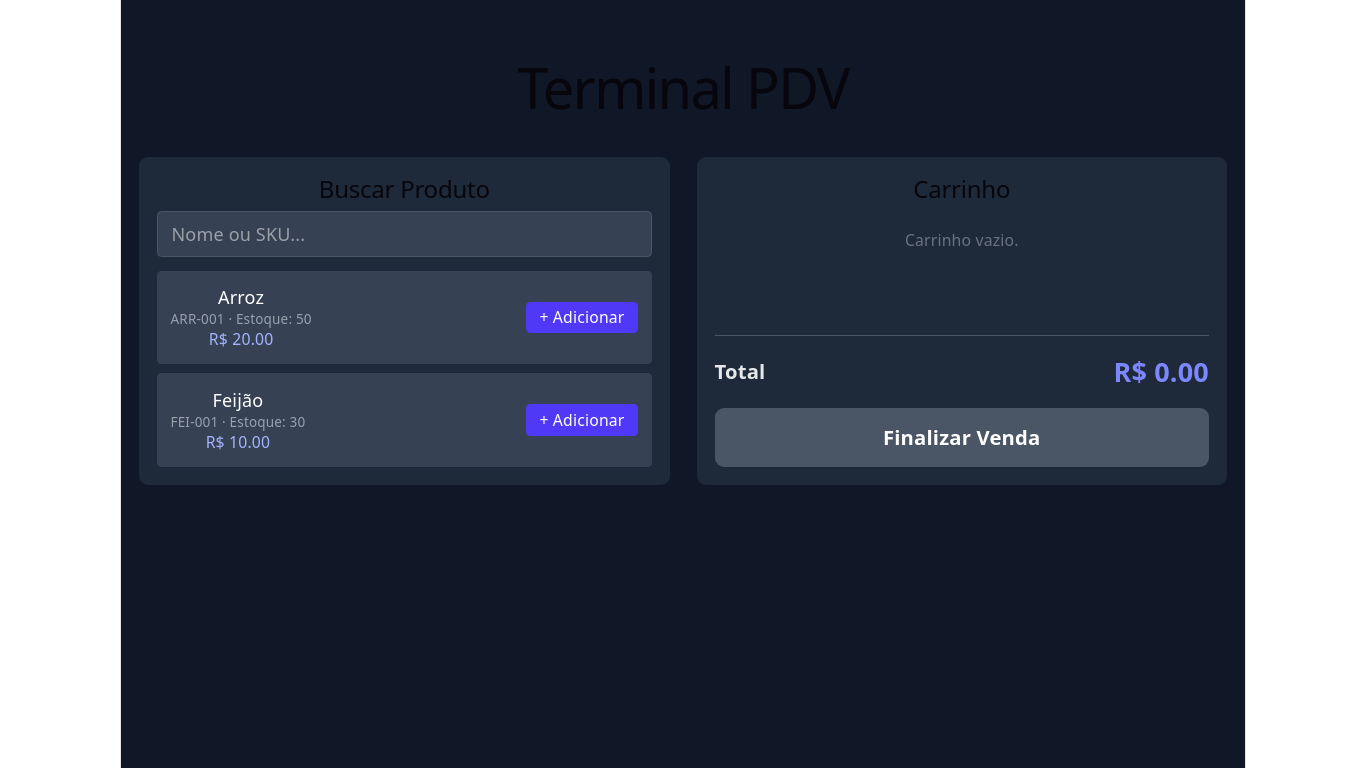
PdvPage › adds product to cart when add button clicked
expect the text "Arroz" is shown: met, box [218,285,264,309]
Step 1. Click the button with aria-label "Adicionar Arroz ao carrinho" → (582, 317), box [526,302,638,333]
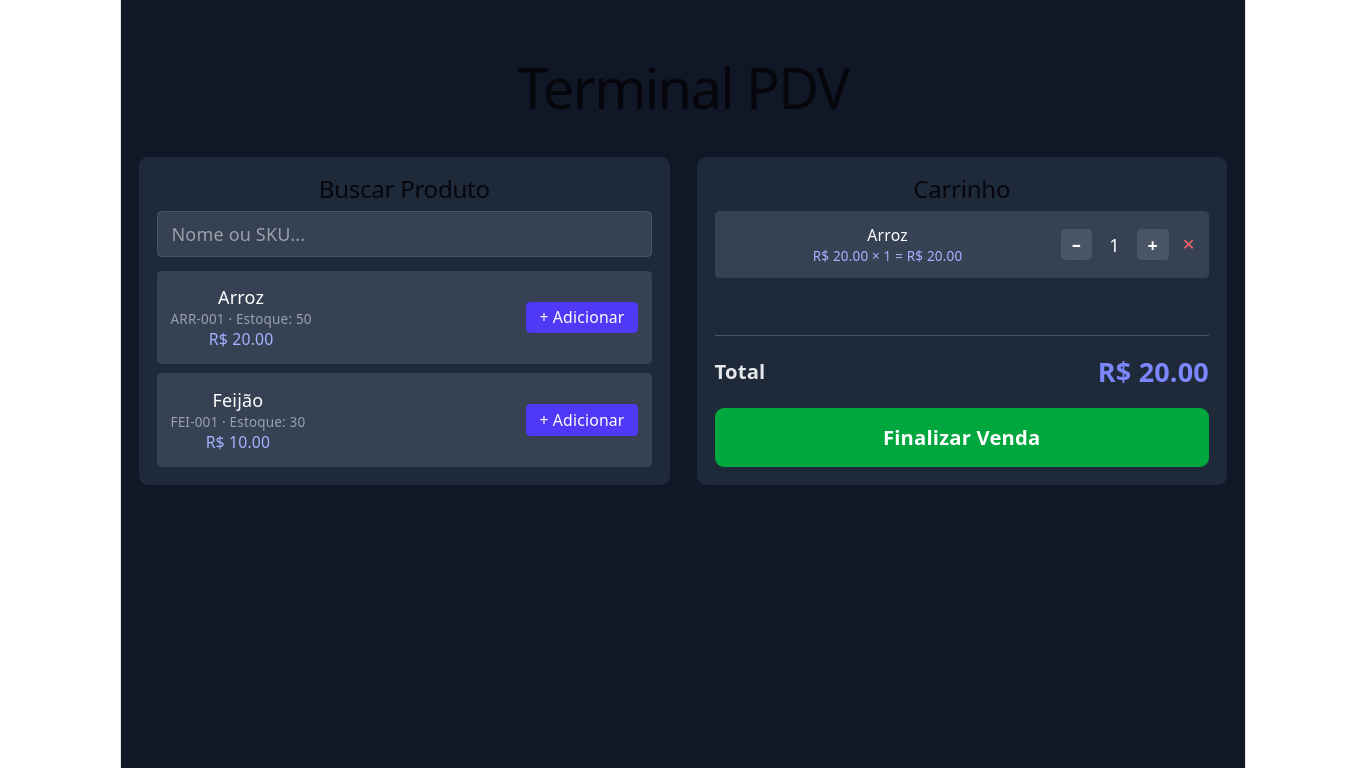
expect the text "Carrinho vazio." is gone: met
